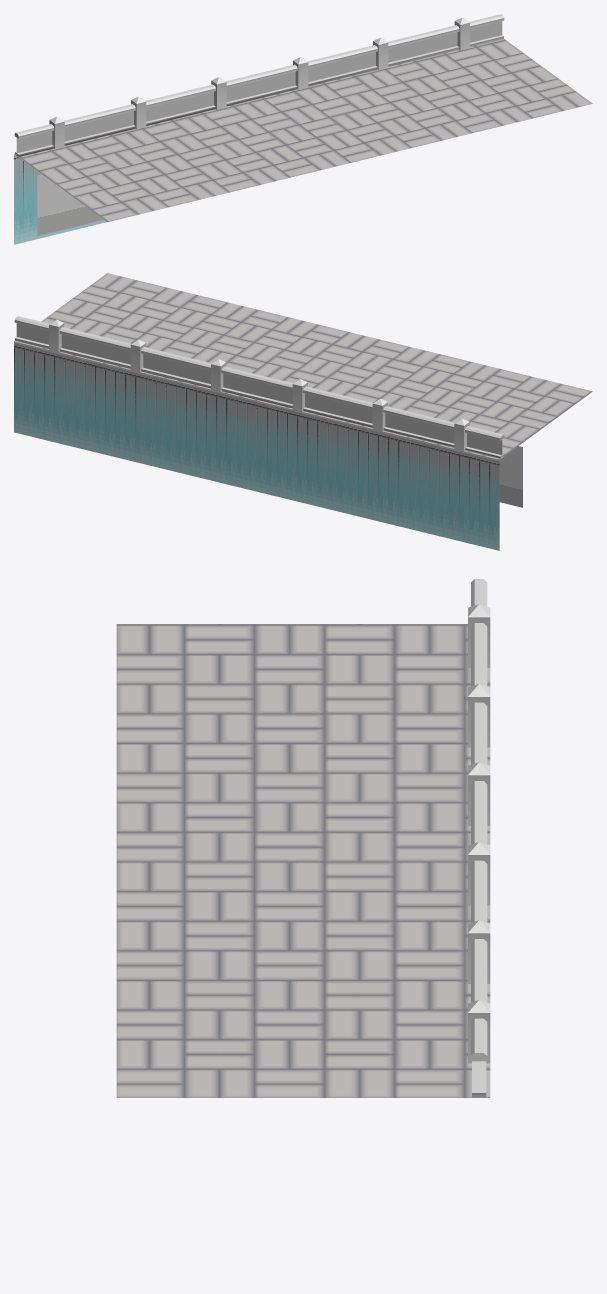
File: Seafront_Straight.fbx
3 views of the same model, one above another, from view 1: azimuth 30°, elevation 25°; view 2: azimuth 150°, elevation 25°; view 3: azimuth 270°, elevation 25° (orthographic). The views are drawn at different scales.
Visible parts, largest first — view 1: Seafront_Straight; view 2: Seafront_Straight; view 3: Seafront_Straight.
Boxes of the visible parts, <box> form: Seafront_Straight: <box>14,14,592,244</box>; Seafront_Straight: <box>14,273,592,550</box>; Seafront_Straight: <box>116,579,490,1097</box>.
Bounding box in the file's own units: 2000 × 475 × 667.
